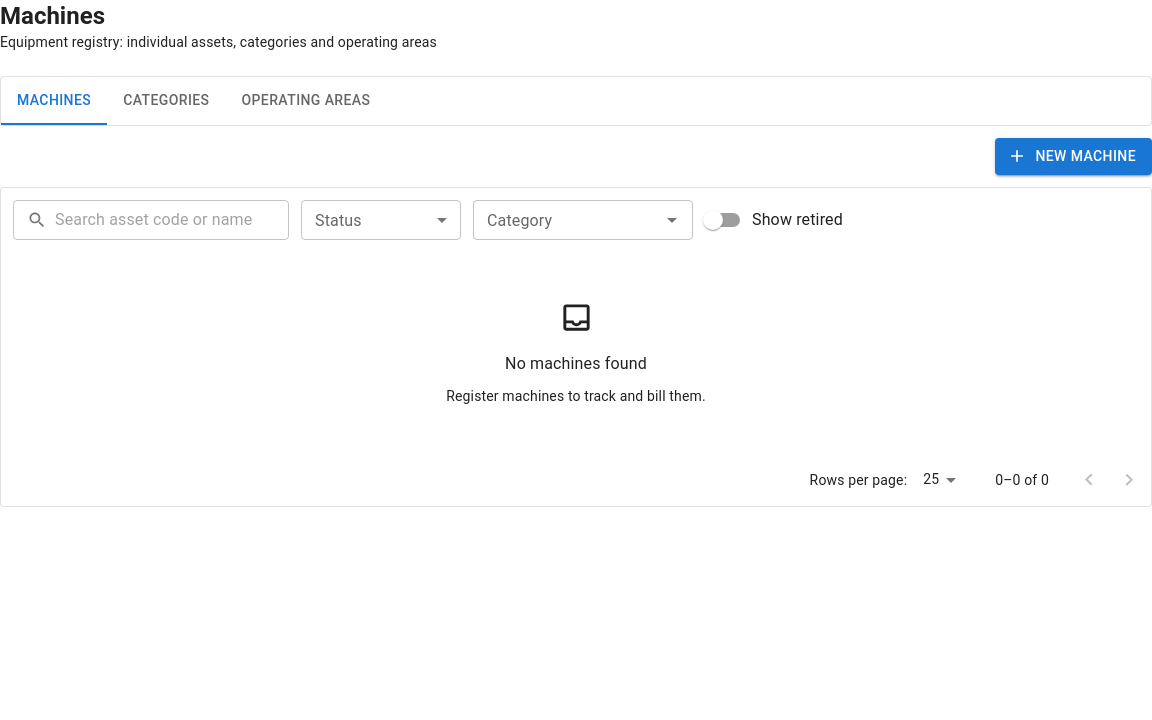
machine categories › views a category in a drawer
Click the tab "Categories" at (166, 101), box [107,77,225,125]
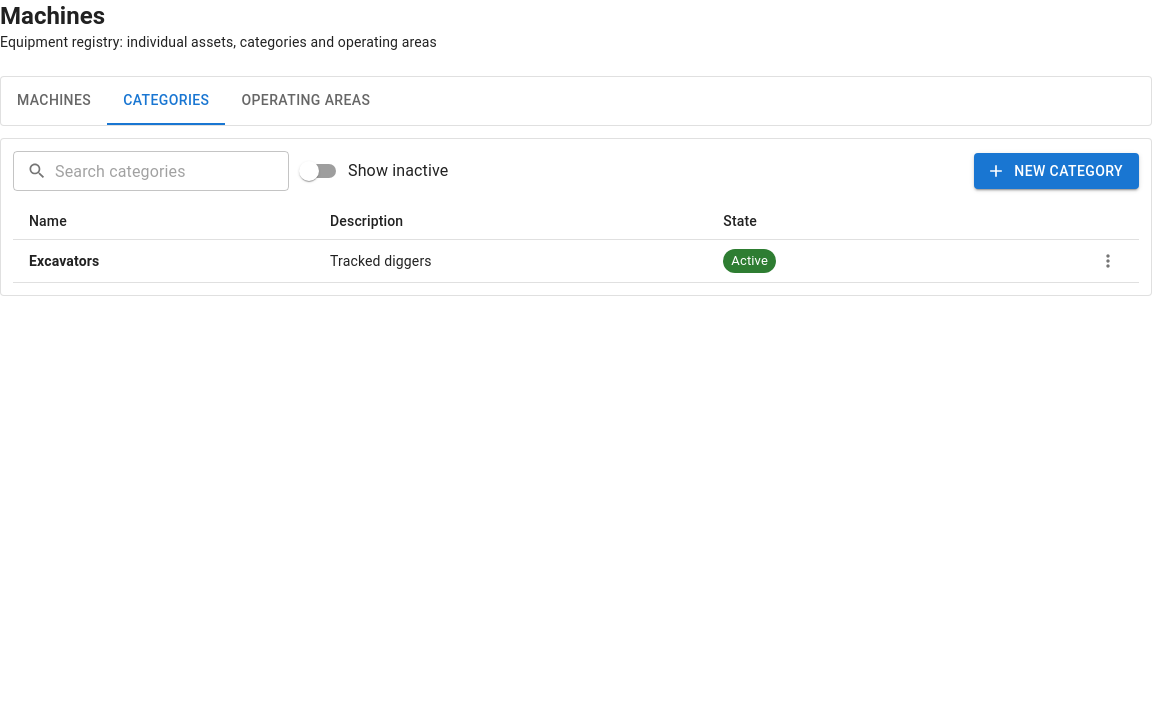
Click the text "Excavators" at (64, 261), box [29,253,99,269]
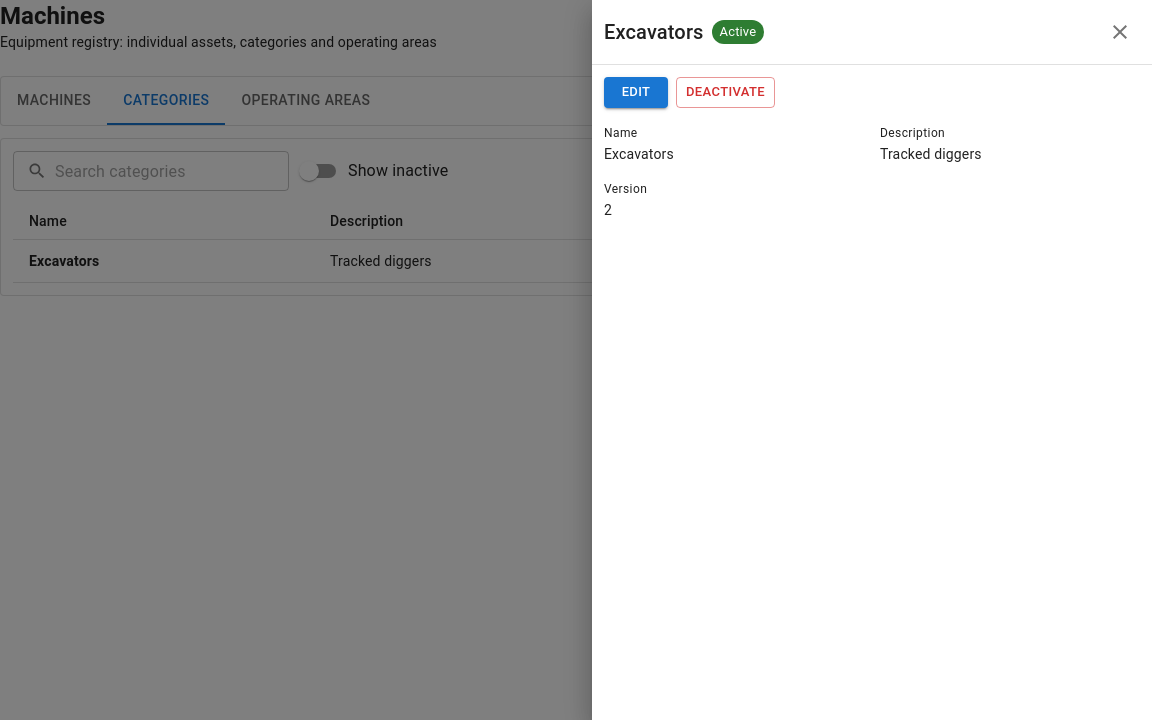
Expected: the heading "Excavators" is shown, [604,16,704,48]
Expected: the button "Deactivate" is shown, [676,77,775,108]
